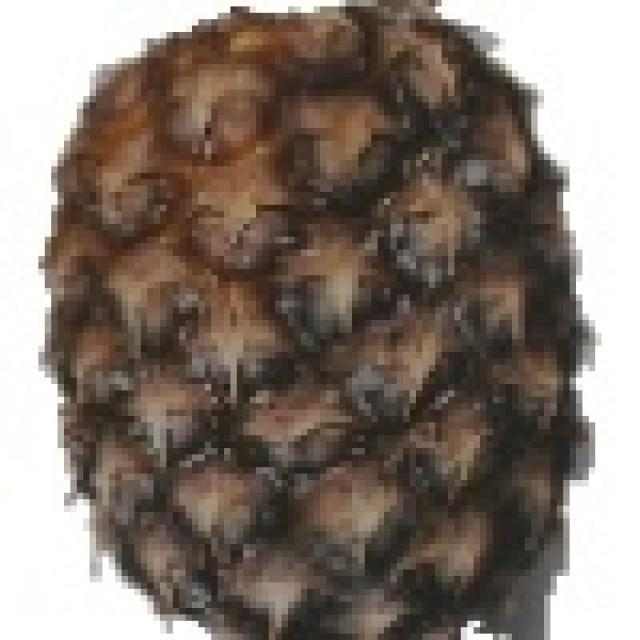pineapple: (45, 0, 589, 640)
